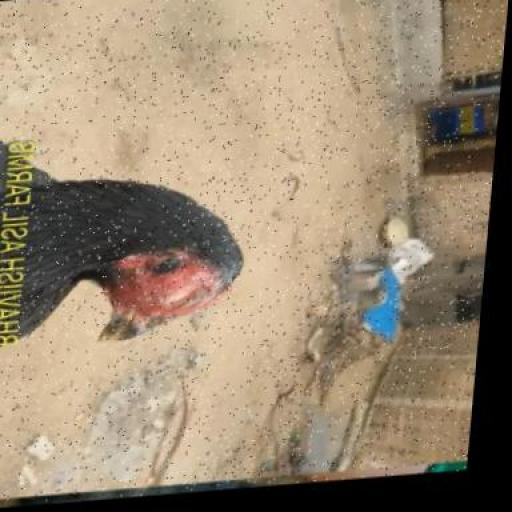disease: (106, 218, 222, 316)
